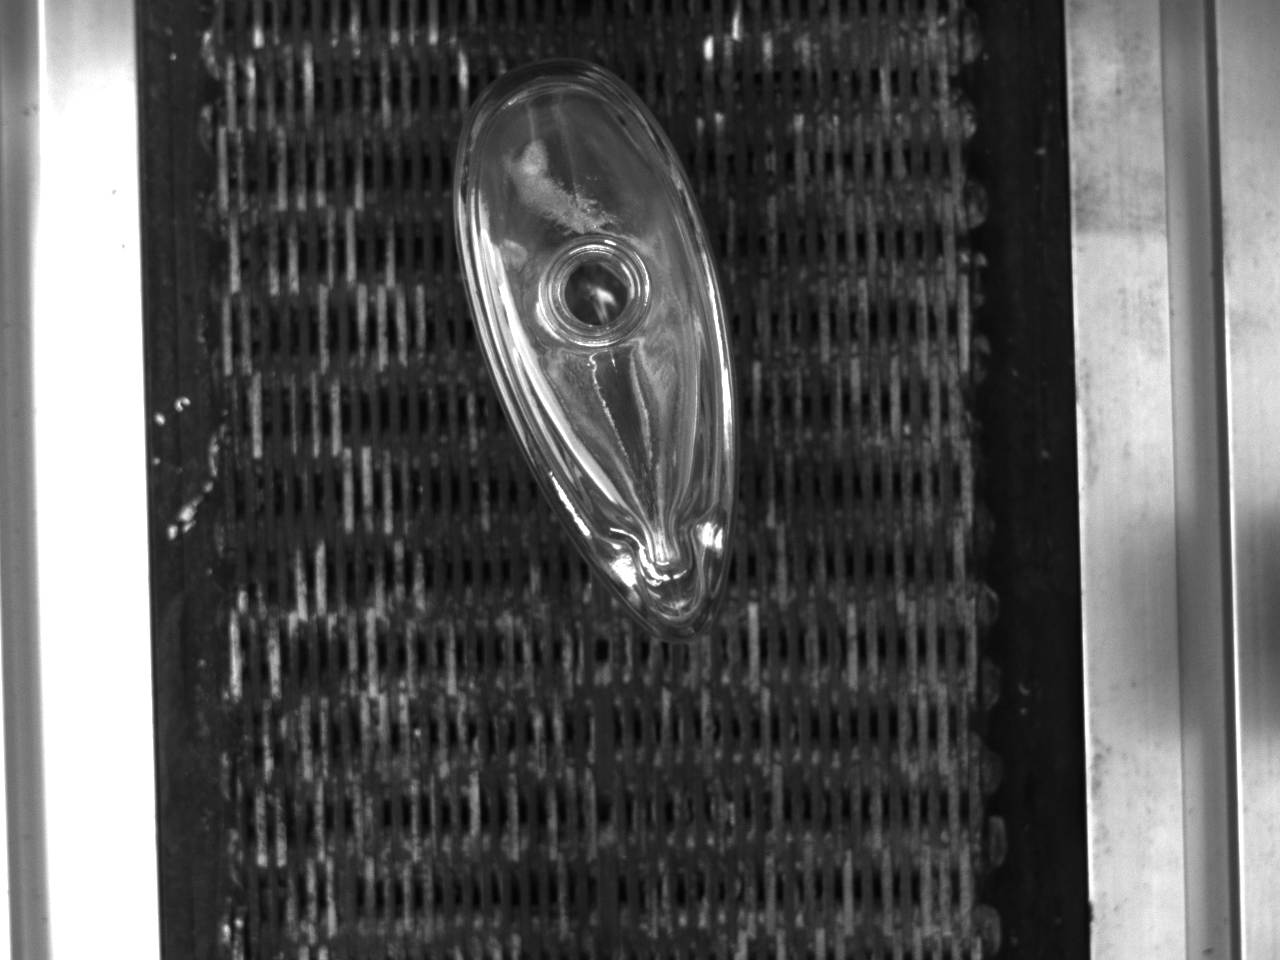bottleneck: (544, 239, 650, 347)
